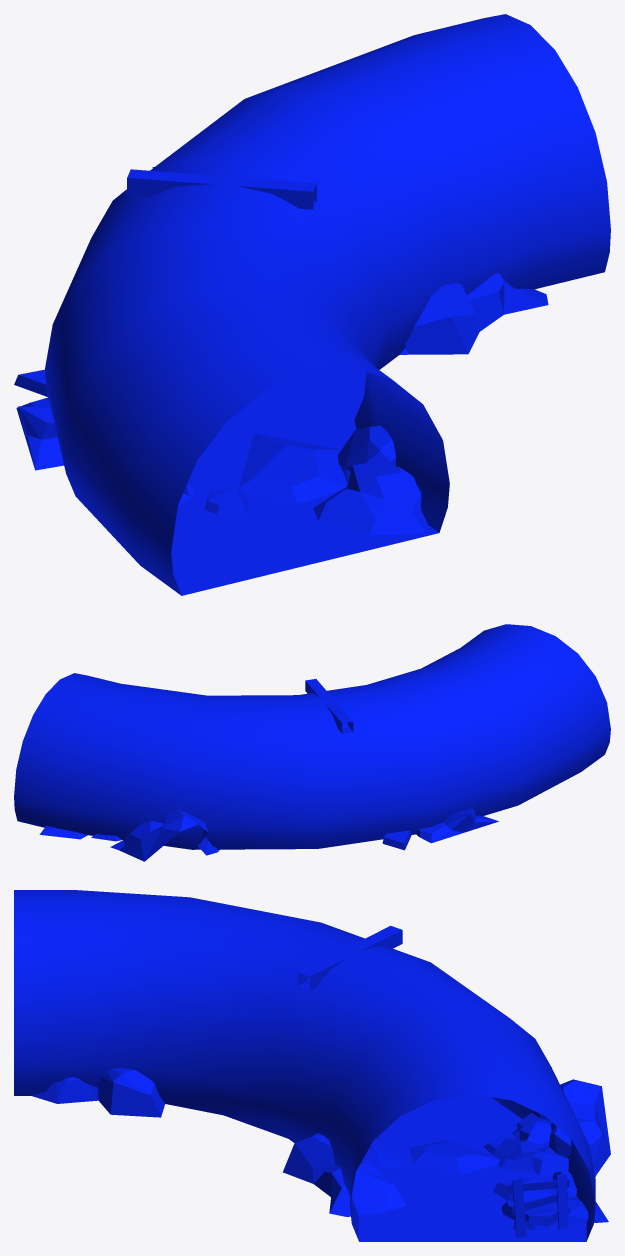
File: 90deg_turn_collider.dae
The picture shows the model from 3 angles, top to bottom: view 1: azimuth 30°, elevation 25°; view 2: azimuth 150°, elevation 25°; view 3: azimuth 270°, elevation 25°; orthographic projection. The views are drawn at different scales.
Visible parts, largest first — view 1: Collider; view 2: Collider; view 3: Collider.
Boxes of the visible parts, x1=… form: Collider: x1=14, y1=14, x2=610, y2=595; Collider: x1=14, y1=624, x2=610, y2=861; Collider: x1=14, y1=890, x2=610, y2=1241.
Bounding box in the file's own units: 1268 × 1301 × 358.
